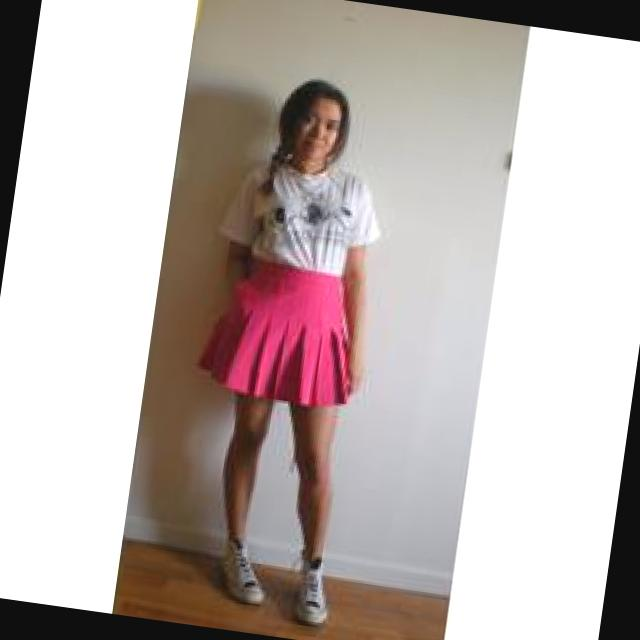Tshirt: (212, 148, 392, 282)
skirt: (190, 254, 370, 413)
